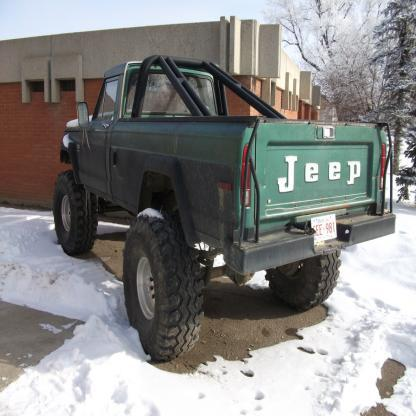car: (46, 59, 403, 356)
